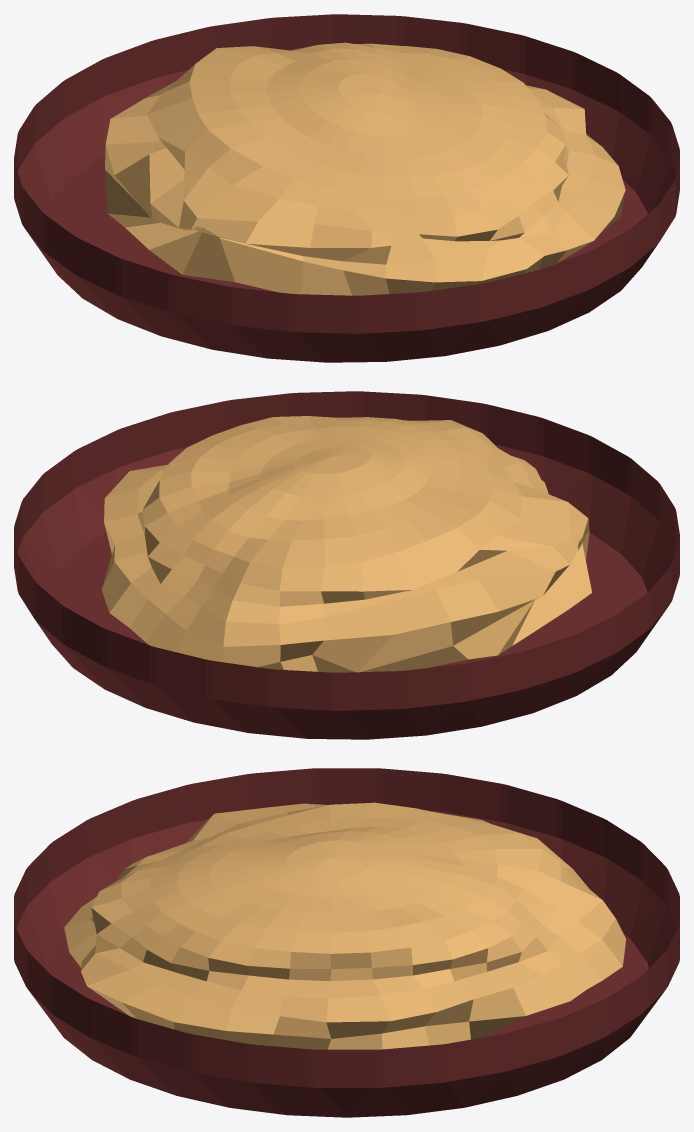
File: Ayam Gilling.fbx
3 views of the same model, one above another, from view 1: azimuth 30°, elevation 25°; view 2: azimuth 150°, elevation 25°; view 3: azimuth 270°, elevation 25° (orthographic).
Visible parts, largest first — view 1: Sphere, Cylinder; view 2: Sphere, Cylinder; view 3: Sphere, Cylinder.
Boxes of the visible parts, x1,y1,x2,y2 form: Sphere: [105, 42, 625, 295]; Cylinder: [14, 14, 679, 362]; Sphere: [101, 416, 591, 672]; Cylinder: [14, 391, 679, 739]; Sphere: [64, 802, 625, 1049]; Cylinder: [14, 768, 679, 1117].
Size of the model in its own units: 198 by 47.43 by 198.
